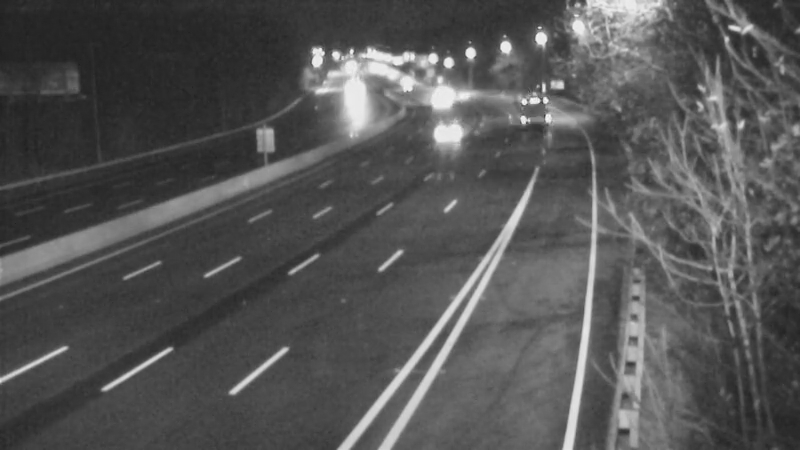vehicle: (379, 55, 429, 105), (437, 69, 487, 119), (421, 79, 471, 129), (497, 82, 547, 132), (416, 106, 466, 156), (331, 74, 381, 124)
